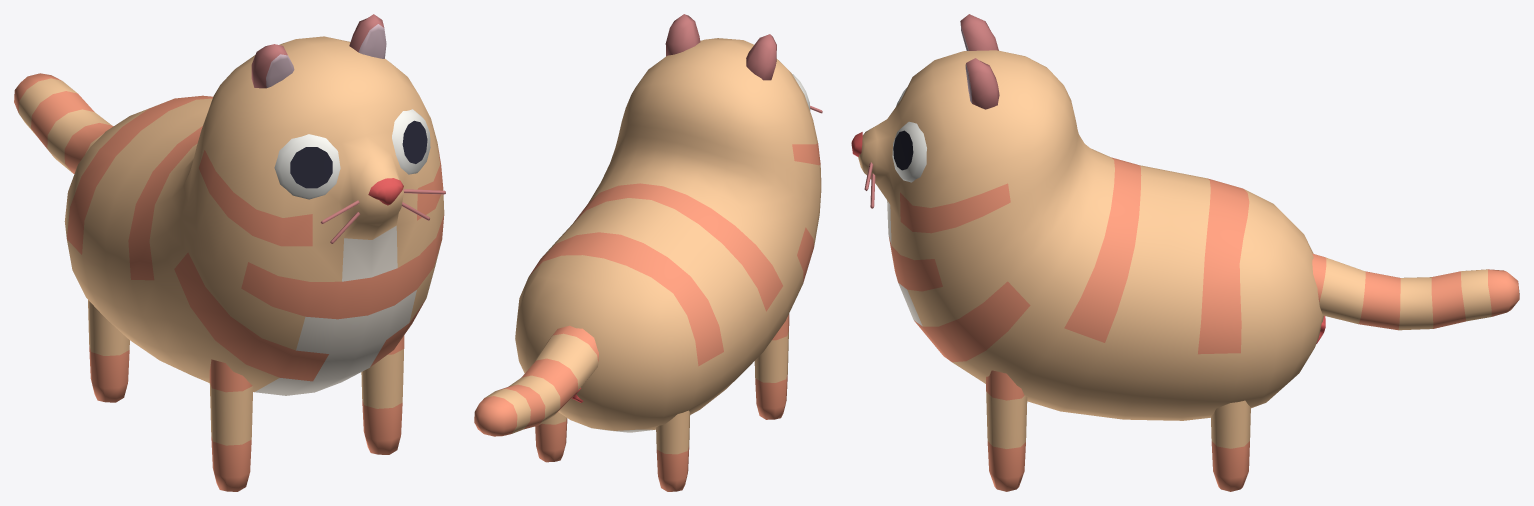
Rendered from Cat_LOD1.obj.
3 renders of one model, left to right at view 1: azimuth 30°, elevation 25°; view 2: azimuth 150°, elevation 25°; view 3: azimuth 270°, elevation 25°, orthographic. The views are drawn at different scales.
Parts seen in each view (by area): view 1: Cat_Cat.008; view 2: Cat_Cat.008; view 3: Cat_Cat.008.
Boxes of the visible parts, x1=… form: Cat_Cat.008: x1=14, y1=14, x2=445, y2=491; Cat_Cat.008: x1=474, y1=14, x2=822, y2=491; Cat_Cat.008: x1=851, y1=14, x2=1519, y2=491.
Size of the model in its own units: 1.17 by 2.08 by 2.99.
